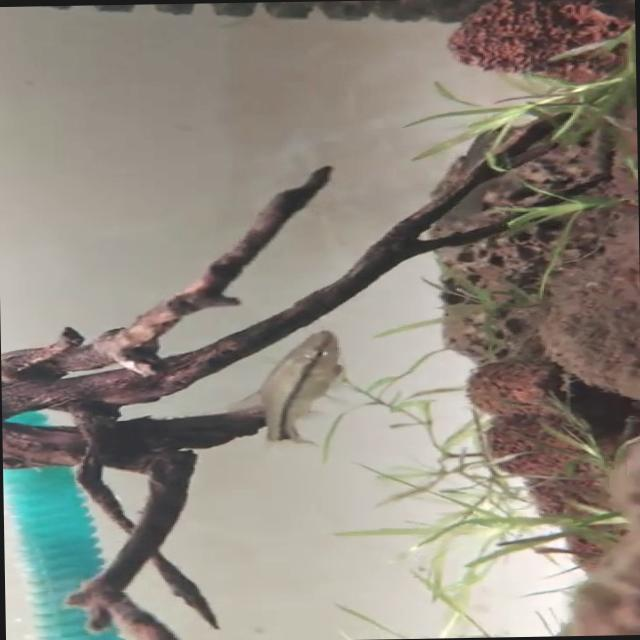Cakil Baligi: (222, 327, 346, 448)
